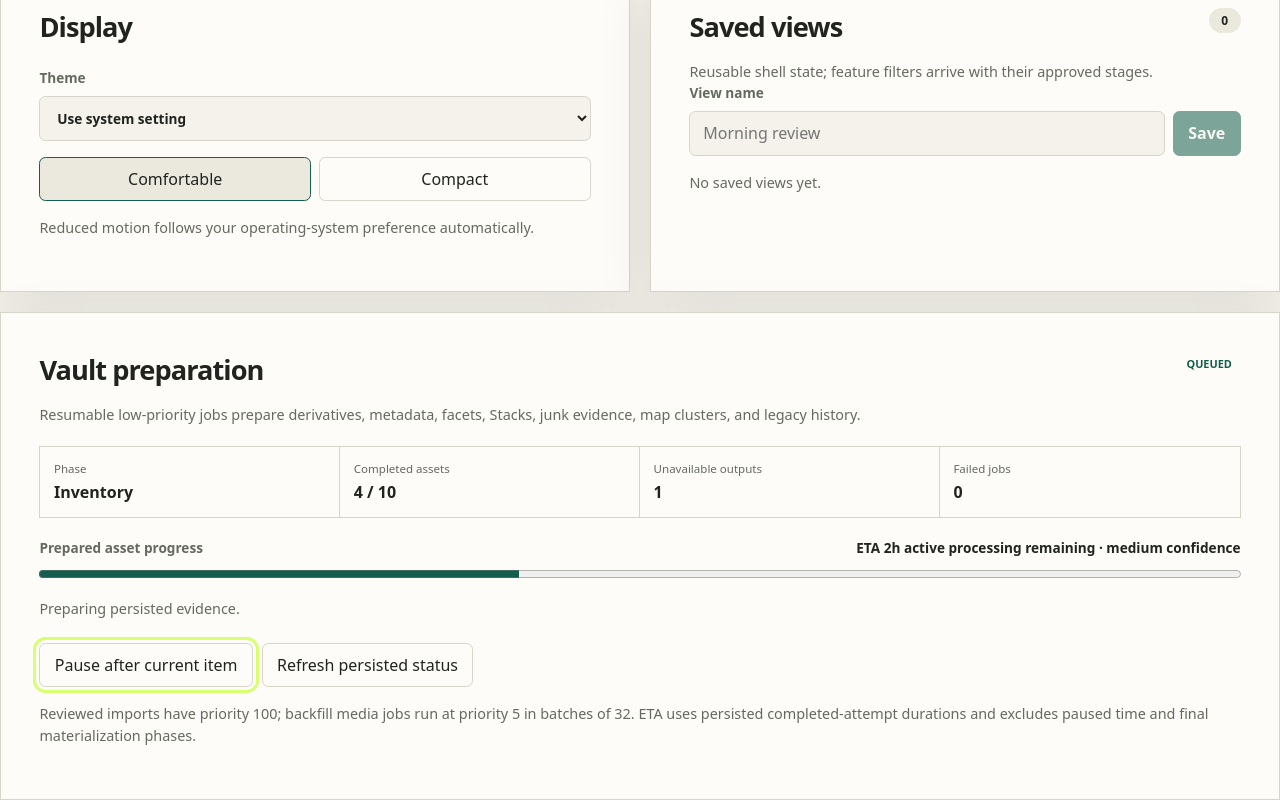
Scenario: settings release preparation › announces honest persisted progress and exposes keyboard-operable pause
(page scrolled)
Expected: the heading "Vault preparation" is shown, [39,351,264,388]
Expected: the text "Completed assets" is shown, [354,461,450,476]
Click the button "Pause after current item".
click(146, 665)  # box [39,643,253,687]
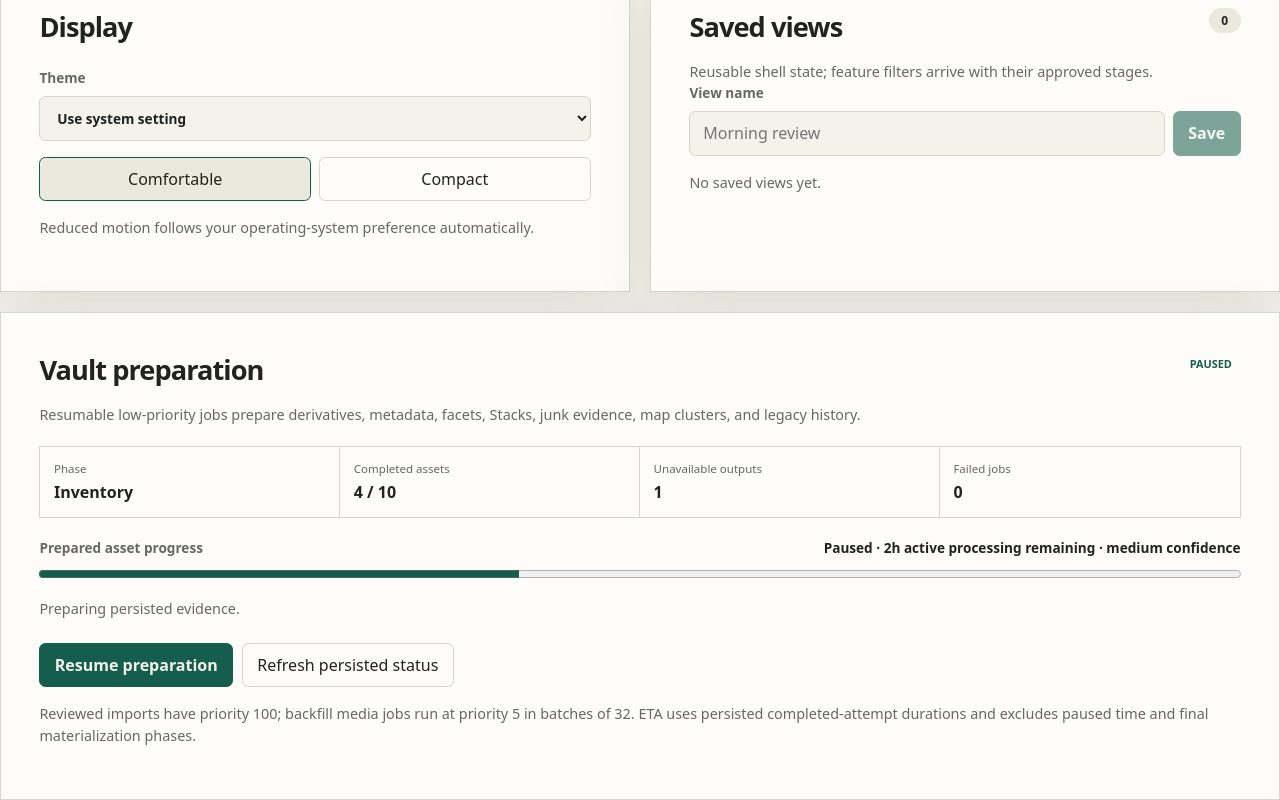
Expected: the button "Resume preparation" is shown, [39,643,233,687]
